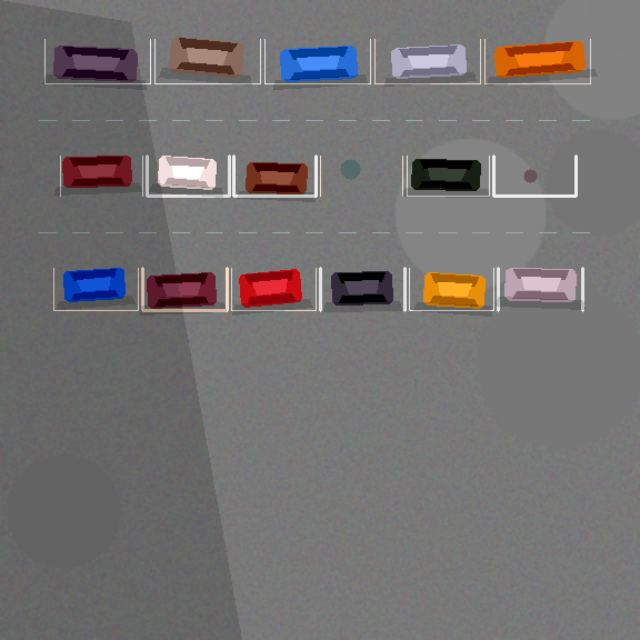space-empty: (493, 156, 576, 196), (320, 156, 402, 196)
space-occupied: (44, 39, 150, 83), (154, 39, 260, 83), (264, 39, 370, 83), (374, 39, 480, 83), (484, 39, 590, 83), (53, 268, 138, 310), (142, 268, 227, 310), (231, 268, 316, 310), (320, 268, 404, 310), (409, 268, 493, 310), (498, 268, 582, 310), (233, 156, 316, 196), (60, 156, 142, 196), (147, 156, 229, 196), (407, 156, 489, 196)
